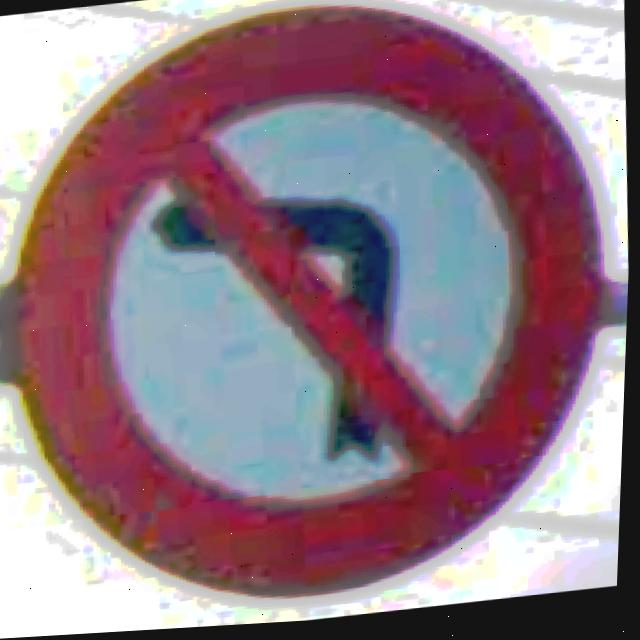noturnleft: (0, 0, 638, 634)
